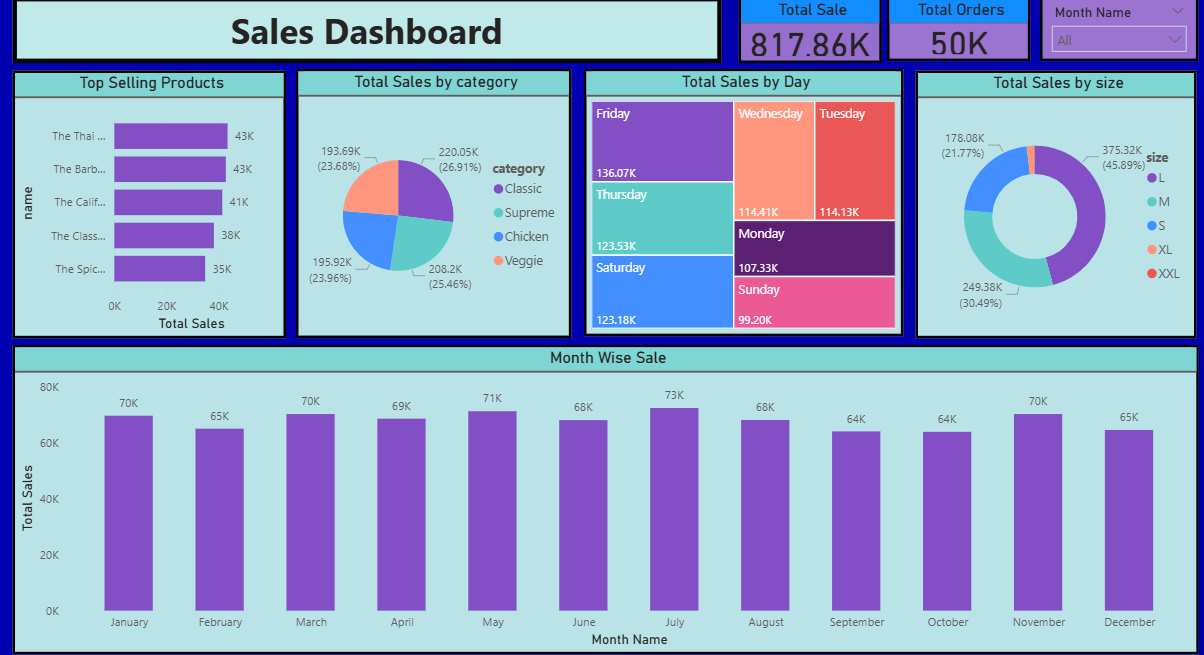

The dashboard page shown, as its layout file describes it:
{"tool":"powerbi","page":{"name":"Dashboard","canvas":[1280,720],"ordinal":0},"visuals":[{"type":"card","title":"Total Sale","fields":{"Values":["order_details.Total Sales"]},"box":[784,6,152,70],"z":0},{"type":"card","title":"Total Orders","fields":{"Values":["order_details.Total Quantity"]},"box":[942,6,152,68],"z":1000},{"type":"pieChart","fields":{"Category":["pizza_types.category"],"Y":["order_details.Total Sales"]},"box":[315,83.3,291.7,285],"z":2000},{"type":"clusteredBarChart","title":"Top Selling Products","fields":{"Category":["pizza_types.name"],"Y":["order_details.Total Sales"]},"box":[14,84,290,284],"z":3000},{"type":"textbox","box":[14,6,752,70],"z":4000},{"type":"clusteredColumnChart","title":"Month Wise Sale","fields":{"Category":["orders.Month Name"],"Y":["order_details.Total Sales"]},"box":[14,376,1258,328],"z":5000},{"type":"slicer","fields":{"Values":["orders.Month Name"]},"box":[1104,6,168,68],"z":6000},{"type":"donutChart","fields":{"Y":["order_details.Total Sales"],"Category":["pizzas.size"]},"box":[972,84,298,284],"z":7000},{"type":"treemap","fields":{"Values":["order_details.Total Sales"],"Group":["orders.Day"]},"box":[620,83.3,338.3,283.3],"z":8000}]}

Visuals, with their boxes in screenshot pixels (x1, y1, x2, y2):
"Total Sale" card: bbox=(733, 0, 874, 64)
"Total Orders" card: bbox=(880, 0, 1021, 63)
pieChart - pizza_types.category x order_details.Total Sales: bbox=(296, 71, 568, 336)
"Top Selling Products" clusteredBarChart: bbox=(16, 72, 286, 336)
textbox: bbox=(16, 0, 716, 64)
"Month Wise Sale" clusteredColumnChart: bbox=(16, 344, 1187, 649)
slicer - orders.Month Name: bbox=(1030, 0, 1187, 63)
donutChart - order_details.Total Sales x pizzas.size: bbox=(908, 72, 1185, 336)
treemap - order_details.Total Sales x orders.Day: bbox=(580, 71, 895, 335)
